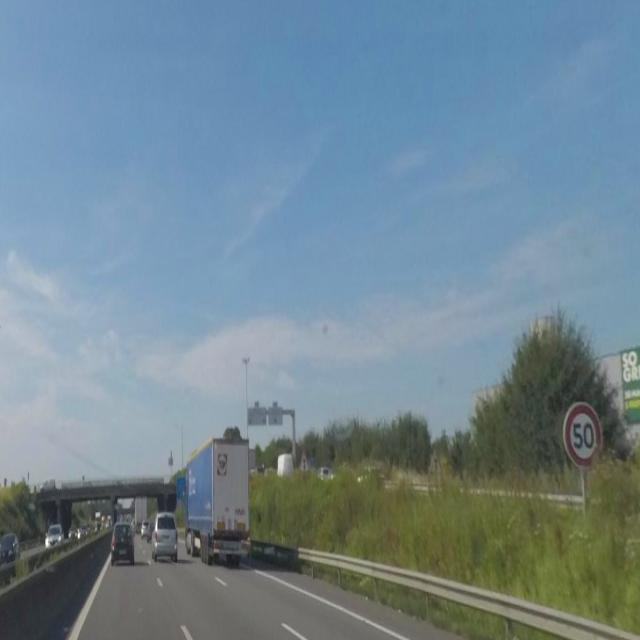speed_50: (564, 404, 602, 468)
